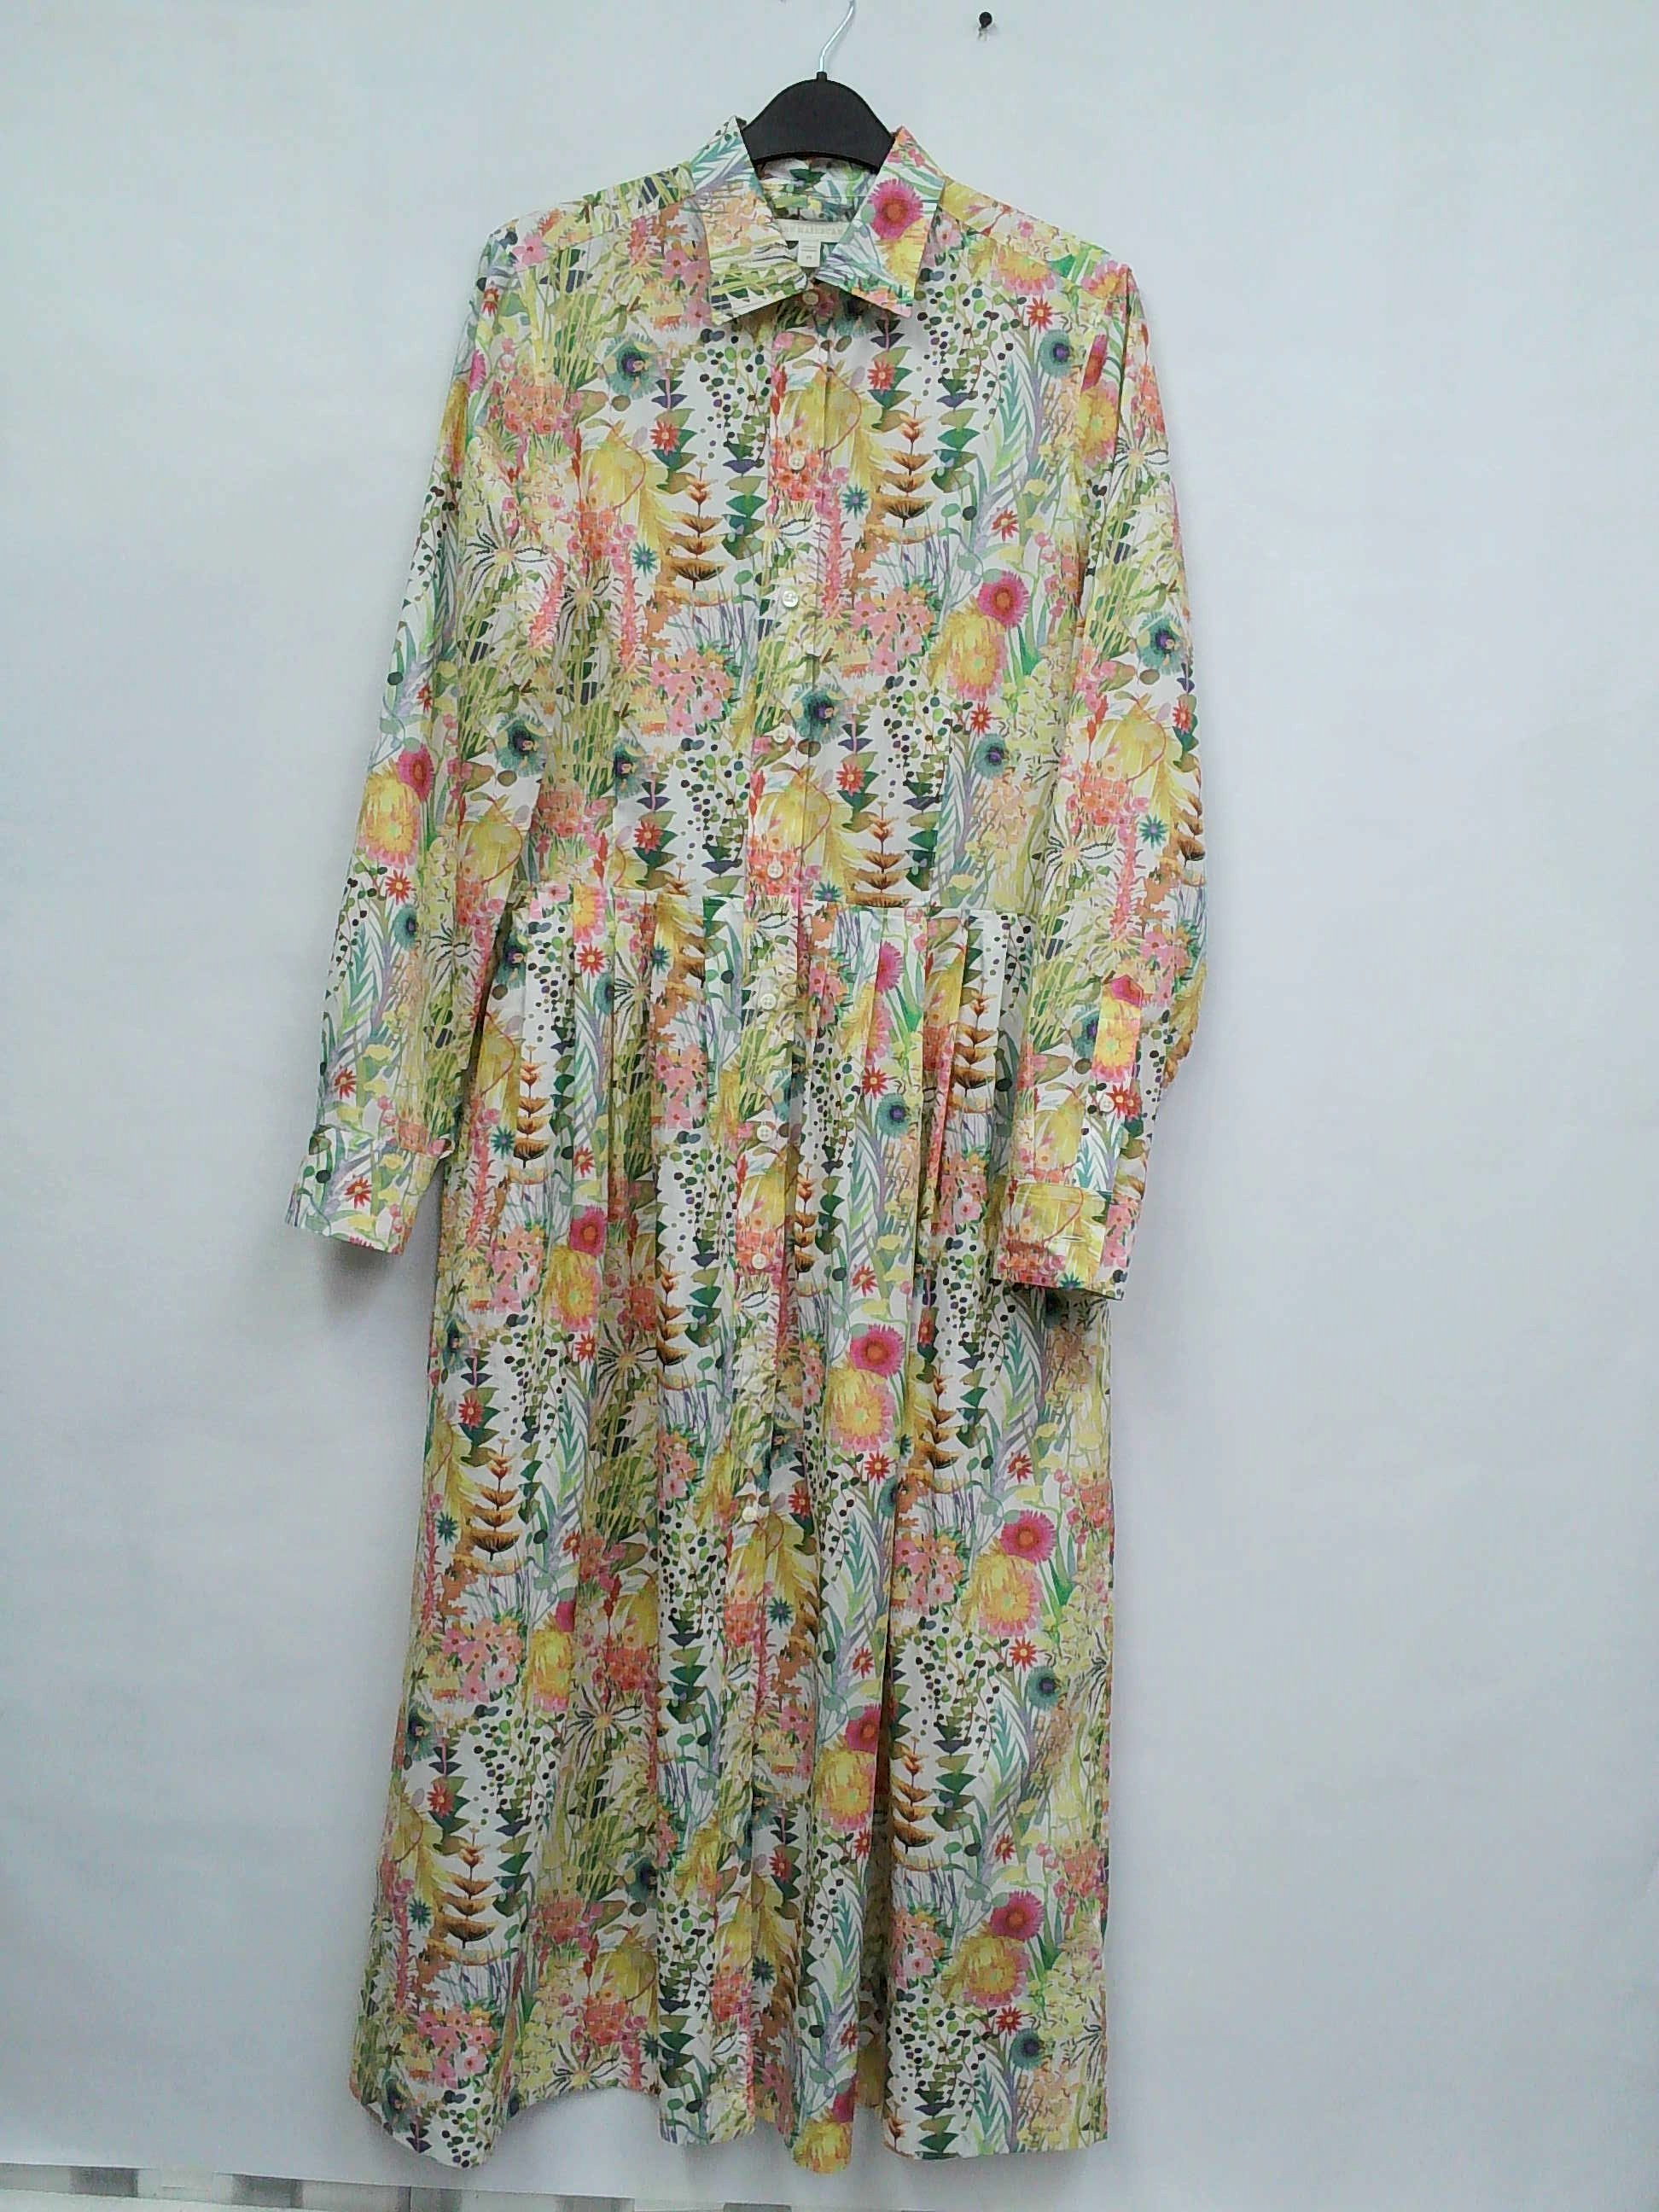structural: (986, 1170, 1152, 1305)
